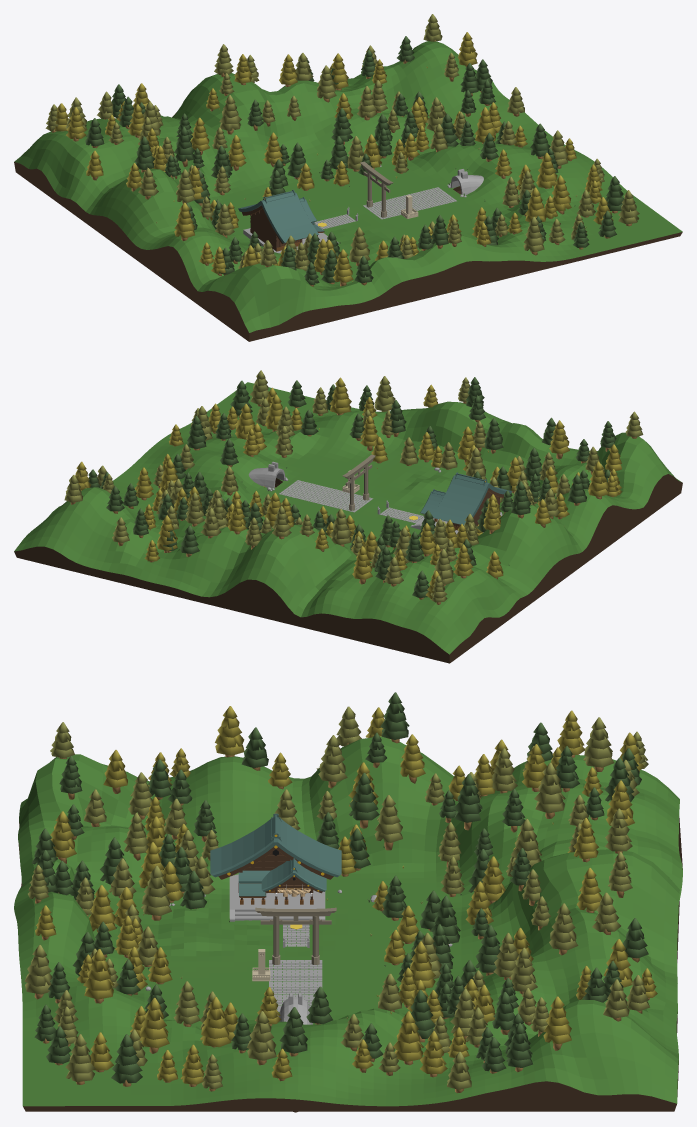
The model's file is 01level_new.fbx.
3 views of the same model, one above another, from view 1: azimuth 30°, elevation 25°; view 2: azimuth 150°, elevation 25°; view 3: azimuth 270°, elevation 25° (orthographic). The views are drawn at different scales.
Parts seen in each view (by area): view 1: Ground, TeamTree, 01_Izumo_Taisha, Road.001, Shrine, RabbitHole; view 2: Ground, TeamTree, 01_Izumo_Taisha, Road.001, Shrine, RabbitHole; view 3: Ground, TeamTree, 01_Izumo_Taisha, Stair, Road.001, Shrine.
Part boxes in pixels (x1,y1,x2,y2): Ground: (14, 41, 682, 341); TeamTree: (45, 14, 639, 286); 01_Izumo_Taisha: (238, 189, 324, 251); Road.001: (363, 187, 456, 219); Shrine: (360, 161, 393, 217); RabbitHole: (450, 169, 483, 195); Ground: (14, 382, 682, 663); TeamTree: (64, 370, 643, 604); 01_Izumo_Taisha: (420, 472, 512, 530); Road.001: (279, 480, 373, 512); Shrine: (342, 454, 375, 510); RabbitHole: (248, 461, 285, 488); Ground: (14, 736, 682, 1111); TeamTree: (24, 692, 657, 1093); 01_Izumo_Taisha: (210, 813, 341, 904); Stair: (229, 874, 325, 921); Road.001: (269, 960, 322, 1011); Shrine: (255, 907, 336, 964).
Bounding box in the file's own units: 16788 × 4682 × 15695.
